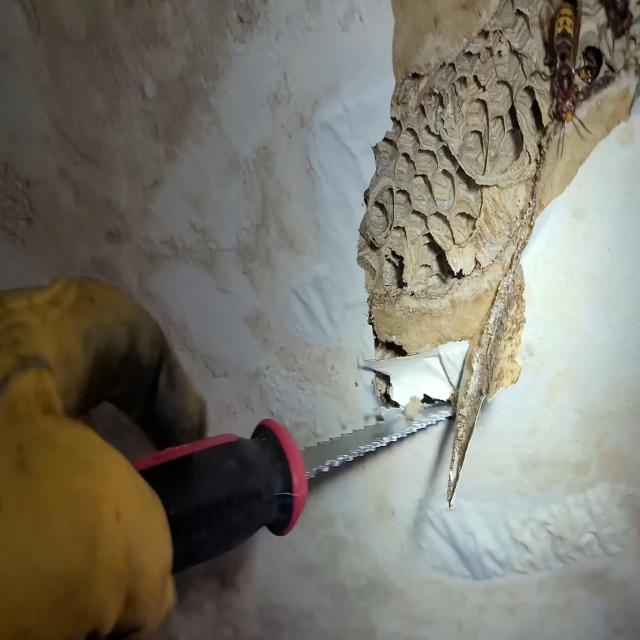Hornets: (539, 0, 593, 158)
